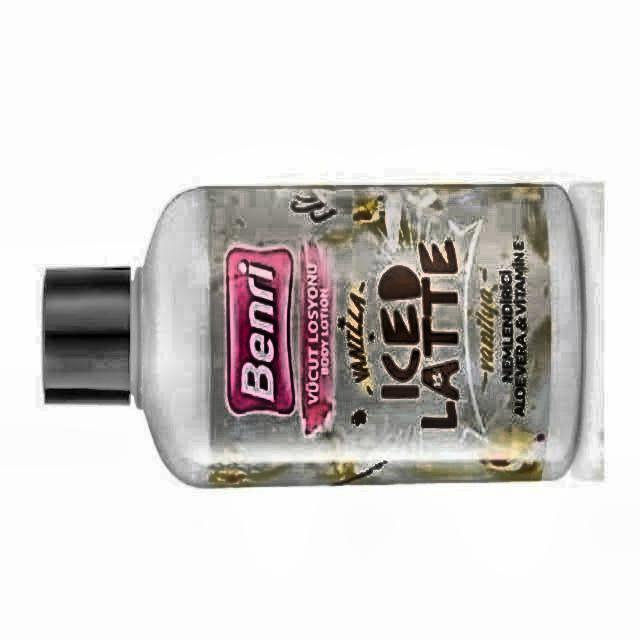plastic: (42, 184, 584, 486)
